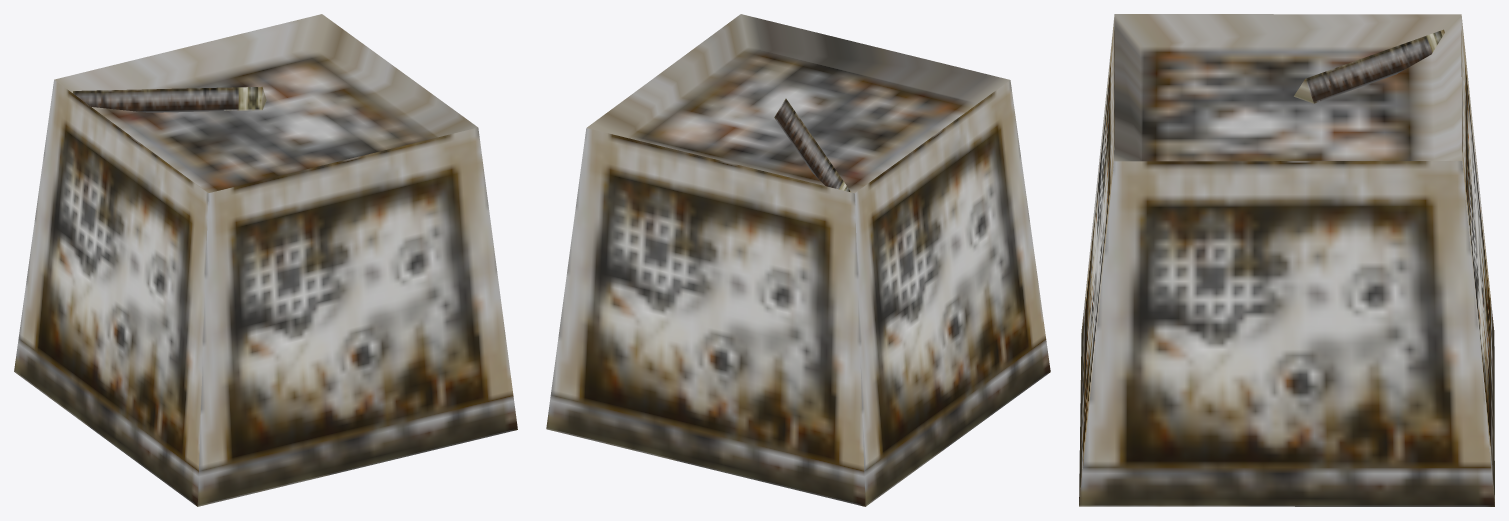
File: d_lightpost_dam.glb
3 views of the same model, side by side, from view 1: azimuth 30°, elevation 25°; view 2: azimuth 150°, elevation 25°; view 3: azimuth 270°, elevation 25° (orthographic). The views are drawn at different scales.
Visible parts, largest first — view 1: DavionLightPostDam; view 2: DavionLightPostDam; view 3: DavionLightPostDam.
Boxes of the visible parts, x1,y1,x2,y2 form: DavionLightPostDam: (14,14,517,506); DavionLightPostDam: (546,14,1050,506); DavionLightPostDam: (1079,14,1494,506).
Size of the model in its own units: 4.54 by 4.16 by 4.57.
Materials: 1 (1 with a texture image).
